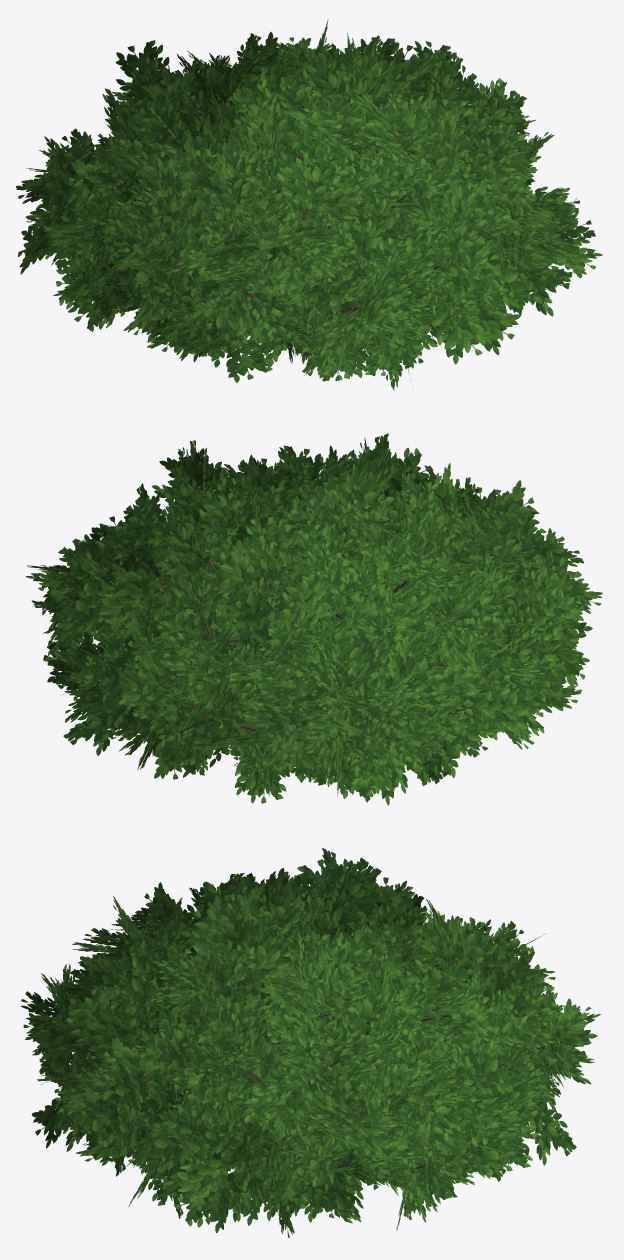
Rendered from bush_wide_01.glb.
3 views of the same model, one above another, from view 1: azimuth 30°, elevation 25°; view 2: azimuth 150°, elevation 25°; view 3: azimuth 270°, elevation 25° (orthographic).
Parts seen in each view (by area): view 1: bush_wide_01; view 2: bush_wide_01; view 3: bush_wide_01.
Boxes of the visible parts, x1,y1,x2,y2 form: bush_wide_01: (16, 19, 602, 390); bush_wide_01: (25, 433, 602, 805); bush_wide_01: (21, 848, 600, 1237).
Bounding box in the file's own units: 3.46 × 1.78 × 3.49.
2 materials, 2 textured.
